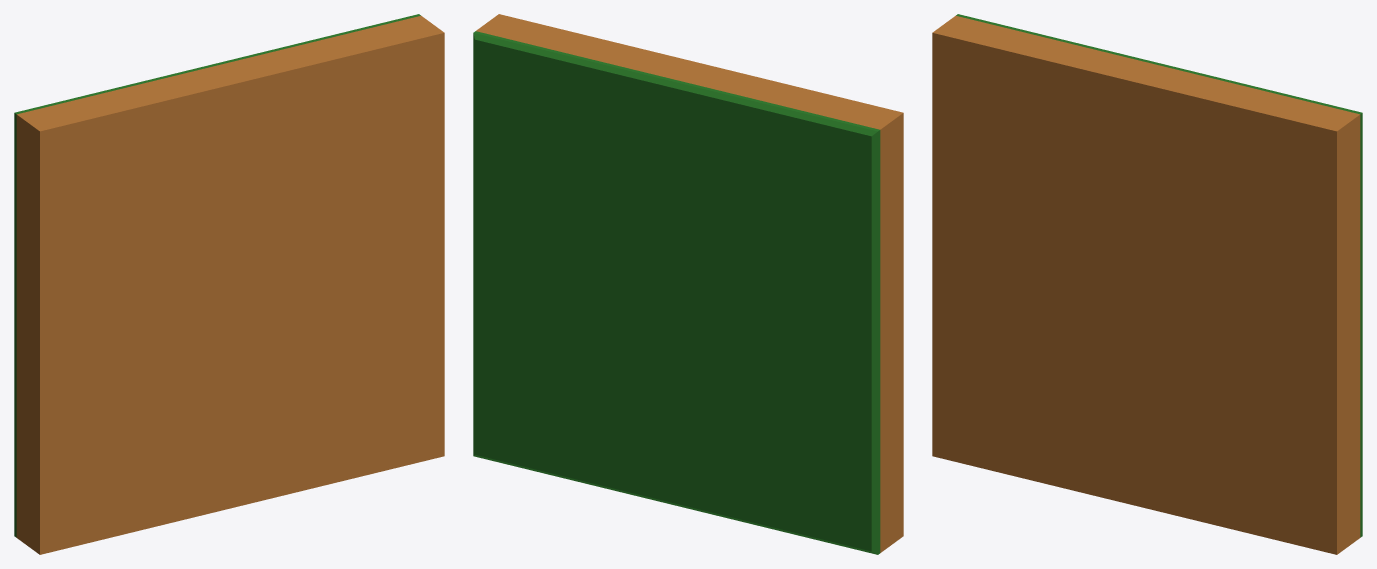
The model's file is Middle.fbx.
3 renders of one model, left to right at view 1: azimuth 30°, elevation 25°; view 2: azimuth 150°, elevation 25°; view 3: azimuth 330°, elevation 25°, orthographic.
Visible parts, largest first — view 1: Middle; view 2: Middle; view 3: Middle.
Part boxes in pixels (box(x1,y1,x2,y2)): Middle: box(14, 14, 444, 554); Middle: box(473, 14, 903, 554); Middle: box(932, 14, 1362, 554).
Size of the model in its own units: 2000 by 2000 by 239.
